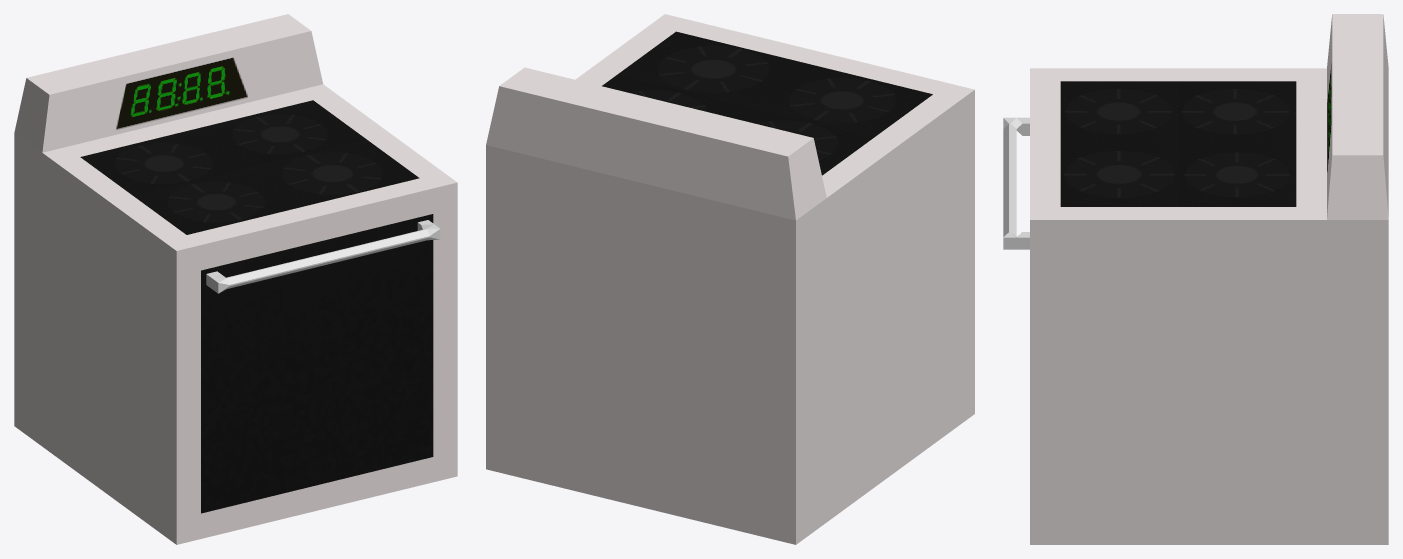
Rendered from Stove.fbx.
The picture shows the model from 3 angles, left to right: view 1: azimuth 30°, elevation 25°; view 2: azimuth 150°, elevation 25°; view 3: azimuth 270°, elevation 25°; orthographic projection. The views are drawn at different scales.
Visible parts, largest first — view 1: Cube, Cube.001; view 2: Cube; view 3: Cube, Cube.001.
Part boxes in pixels (left/top/right/bottom): Cube: left=14, top=14, right=457, bottom=544; Cube.001: left=206, top=220, right=440, bottom=293; Cube: left=486, top=14, right=974, bottom=544; Cube: left=1030, top=14, right=1388, bottom=544; Cube.001: left=1003, top=117, right=1029, bottom=249.
Size of the model in its own units: 200 by 237 by 215.
Materials: 2 (1 with a texture image).
